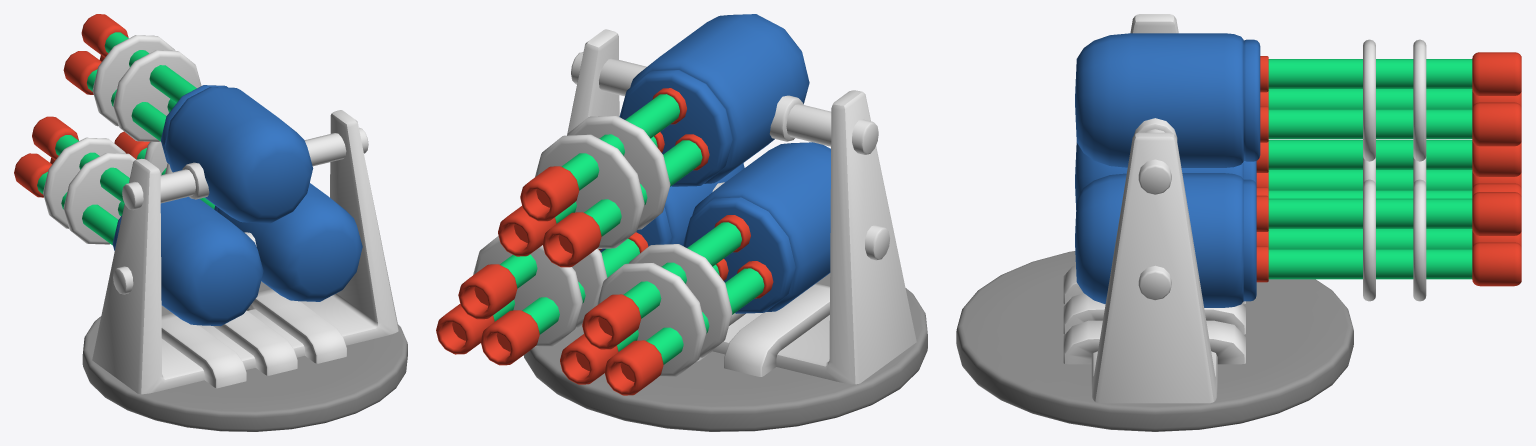
The model's file is mini_3_part.fbx.
3 renders of one model, left to right at view 1: azimuth 30°, elevation 25°; view 2: azimuth 150°, elevation 25°; view 3: azimuth 270°, elevation 25°, orthographic. The views are drawn at different scales.
Visible parts, largest first — view 1: Cylinder.003, Weapon_01_1.002, back.002, back.001, back2.001, disc1.002, disc1.001, up1.002, up1.001, platform_1.003, platform_1.004, Cylinder.001 (+5 smaller); view 2: Cylinder.003, Weapon_01_1.002, back.002, up1.001, up1.002, back.001, up2.001, disc1.001, disc1.002, disc5.002, disc2.001, disc5.001 (+5 smaller); view 3: Weapon_01_1.002, Cylinder.003, up2.001, up1.002, back.002, up1.001, back2.001, disc2.001, disc1.002, platform_1.003, disc5.002, platform_1.008 (+5 smaller).
Boxes of the visible parts, box(x1,y1,x2,y2) form: Cylinder.003: box(92, 110, 398, 394); Weapon_01_1.002: box(82, 281, 407, 431); back.002: box(164, 87, 313, 223); back.001: box(115, 196, 263, 326); back2.001: box(217, 183, 362, 301); disc1.002: box(92, 35, 201, 141); disc1.001: box(43, 137, 135, 244); up1.002: box(63, 14, 196, 141); up1.001: box(14, 116, 129, 245); platform_1.003: box(246, 289, 346, 363); platform_1.004: box(161, 313, 246, 388); Cylinder.001: box(122, 127, 368, 210); Cylinder.003: box(567, 29, 916, 384); Weapon_01_1.002: box(523, 273, 927, 431); back.002: box(630, 14, 809, 183); up1.001: box(560, 215, 773, 395); up1.002: box(498, 88, 709, 267); back.001: box(692, 142, 830, 311); up2.001: box(436, 232, 648, 365); disc1.001: box(597, 244, 732, 377); disc1.002: box(535, 115, 670, 248); disc5.002: box(619, 70, 732, 186); disc2.001: box(473, 236, 607, 346); disc5.001: box(683, 197, 795, 313); Weapon_01_1.002: box(956, 251, 1353, 431); Cylinder.003: box(1091, 14, 1217, 403); up2.001: box(1256, 192, 1521, 286); up1.002: box(1260, 52, 1521, 146); back.002: box(1075, 33, 1243, 167); up1.001: box(1256, 140, 1521, 198); back2.001: box(1075, 173, 1243, 307); disc2.001: box(1363, 179, 1426, 301); disc1.002: box(1363, 39, 1426, 161); platform_1.003: box(1063, 320, 1245, 364); disc5.002: box(1243, 39, 1260, 161); platform_1.008: box(1063, 293, 1245, 334).
Size of the model in its own units: 88.73 by 76.49 by 126.
